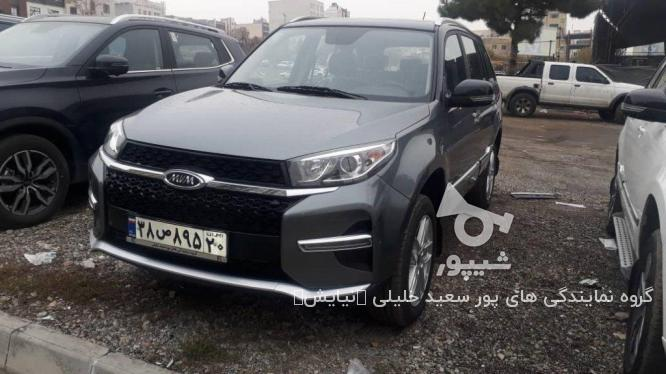car: (123, 216, 232, 258)
